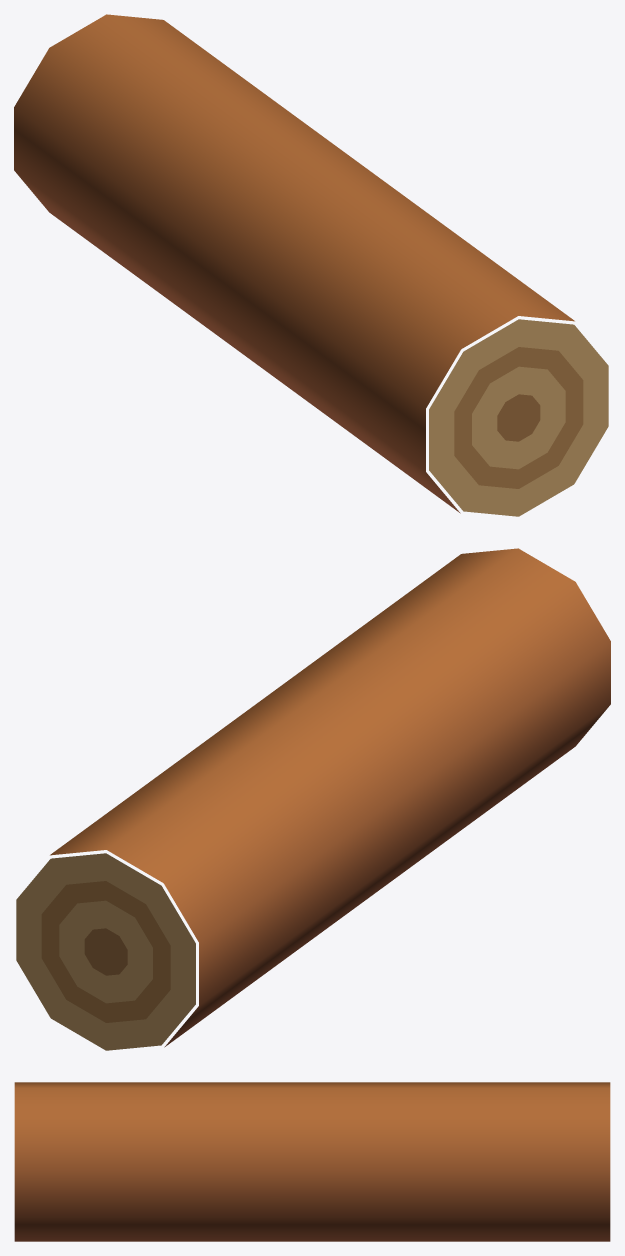
File: log-single.glb
3 views of the same model, one above another, from view 1: azimuth 30°, elevation 25°; view 2: azimuth 150°, elevation 25°; view 3: azimuth 270°, elevation 25° (orthographic). The views are drawn at different scales.
Visible parts, largest first — view 1: log.single; view 2: log.single; view 3: log.single.
Part boxes in pixels (x1=…): log.single: x1=14, y1=14, x2=608, y2=516; log.single: x1=16, y1=548, x2=610, y2=1050; log.single: x1=14, y1=1082, x2=610, y2=1241.
Size of the model in its own units: 0.5707 by 0.6001 by 2.2.
